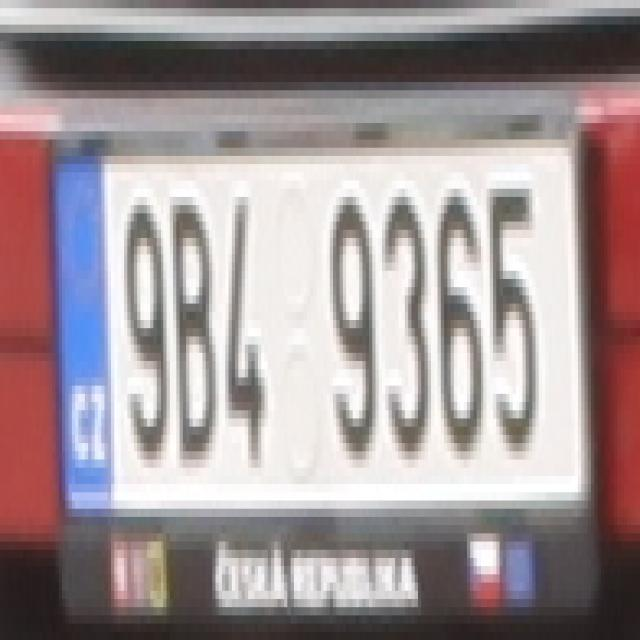3: (379, 189, 431, 443)
4: (219, 180, 271, 476)
5: (484, 180, 536, 452)
6: (434, 189, 484, 443)
9: (320, 189, 376, 443), (118, 197, 170, 468)
B: (166, 188, 218, 468)
